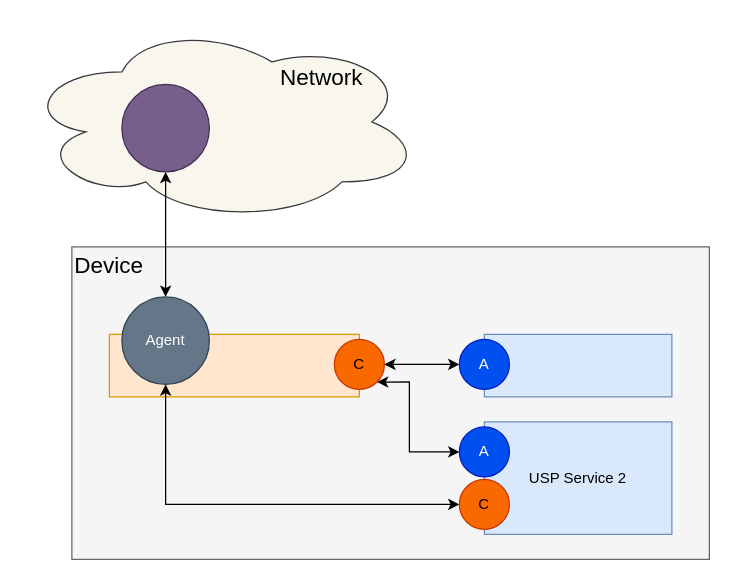
This 731x581 diagram has some shape labels left out. The shapes that lost their labels are listed below. From the top down, each one's box as (x1, y1, x2, y2) in pixels, then its label:
(121, 83, 209, 172): Controller
(108, 333, 359, 397): USP Broker
(483, 333, 672, 397): USP Service 1
